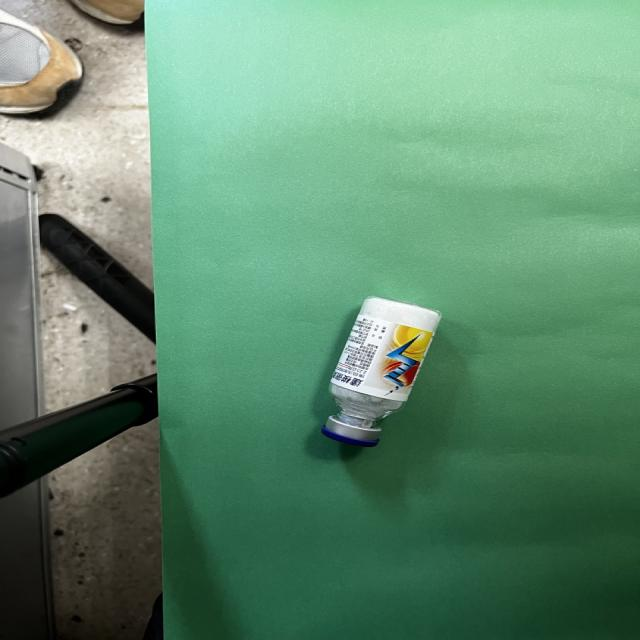Vials: (321, 298, 441, 447)
